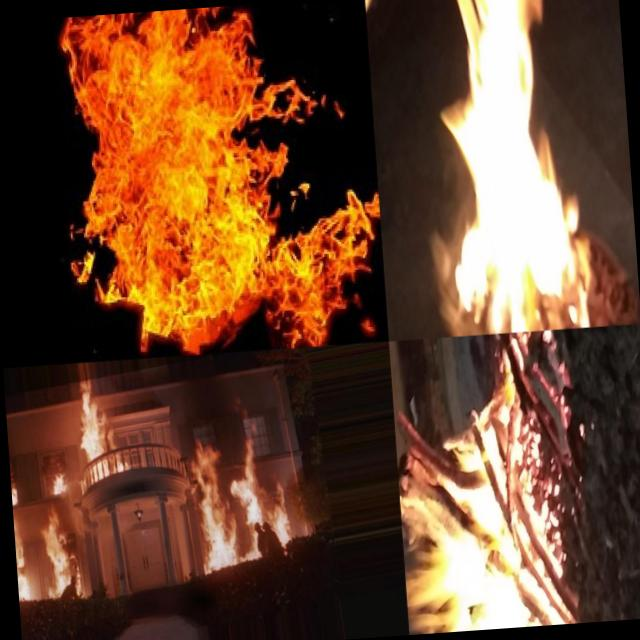fire: (46, 0, 387, 361), (413, 0, 604, 337), (388, 333, 508, 634), (230, 412, 292, 549), (187, 442, 241, 572), (74, 388, 130, 492), (44, 511, 82, 598), (12, 508, 33, 602), (48, 460, 70, 502), (10, 464, 22, 508)
smoke: (178, 380, 232, 446), (227, 362, 279, 416)
